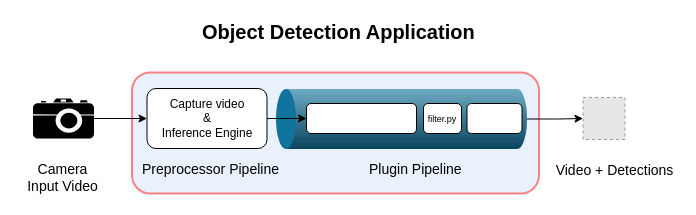
This 696x215 diagram has some shape labels left out. Grey dashed boxes stand in for pictures. The shapes that lost their labels are listed below. From the top down, each one's centre as x and y in pixels, then its label:
At pixel 361 118: "preprocessor_inference.py".
At pixel 494 118: "visualize.py".
